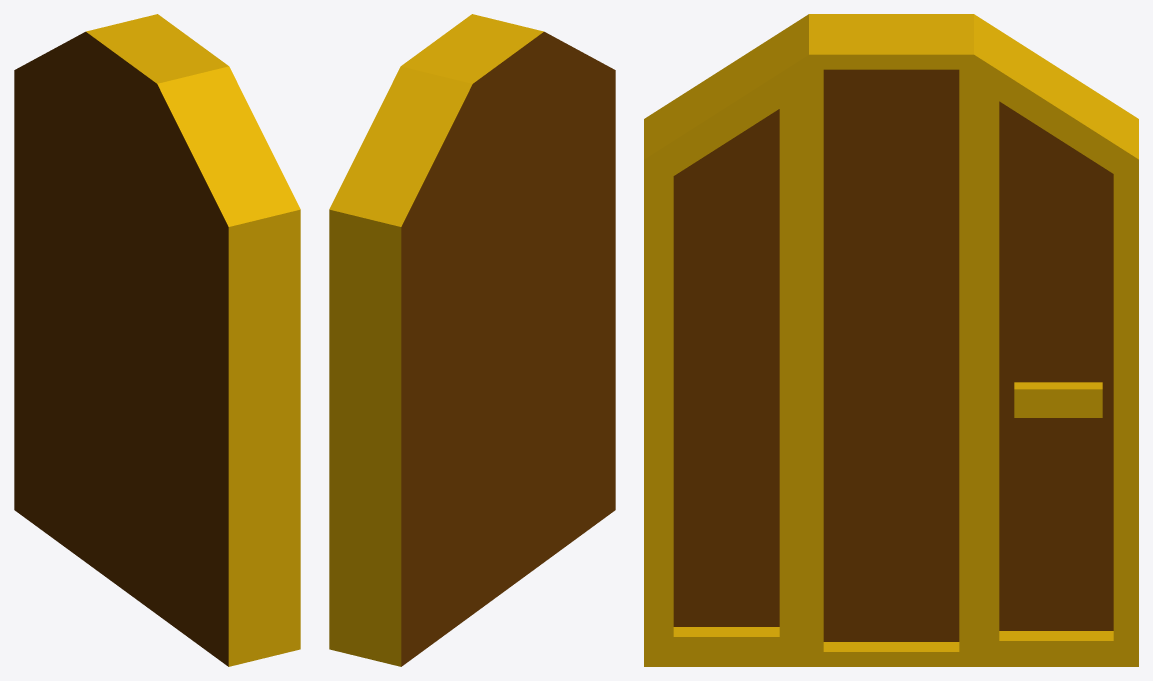
The model's file is cemetarydoor.fbx.
3 views of the same model, side by side, from view 1: azimuth 30°, elevation 25°; view 2: azimuth 150°, elevation 25°; view 3: azimuth 270°, elevation 25° (orthographic). The views are drawn at different scales.
Visible parts, largest first — view 1: Cube.001; view 2: Cube.001; view 3: Cube.001.
Boxes of the visible parts, x1,y1,x2,y2 form: Cube.001: (14,14,300,666); Cube.001: (329,14,615,666); Cube.001: (644,14,1138,666).
Size of the model in its own units: 65.04 by 458 by 335.
